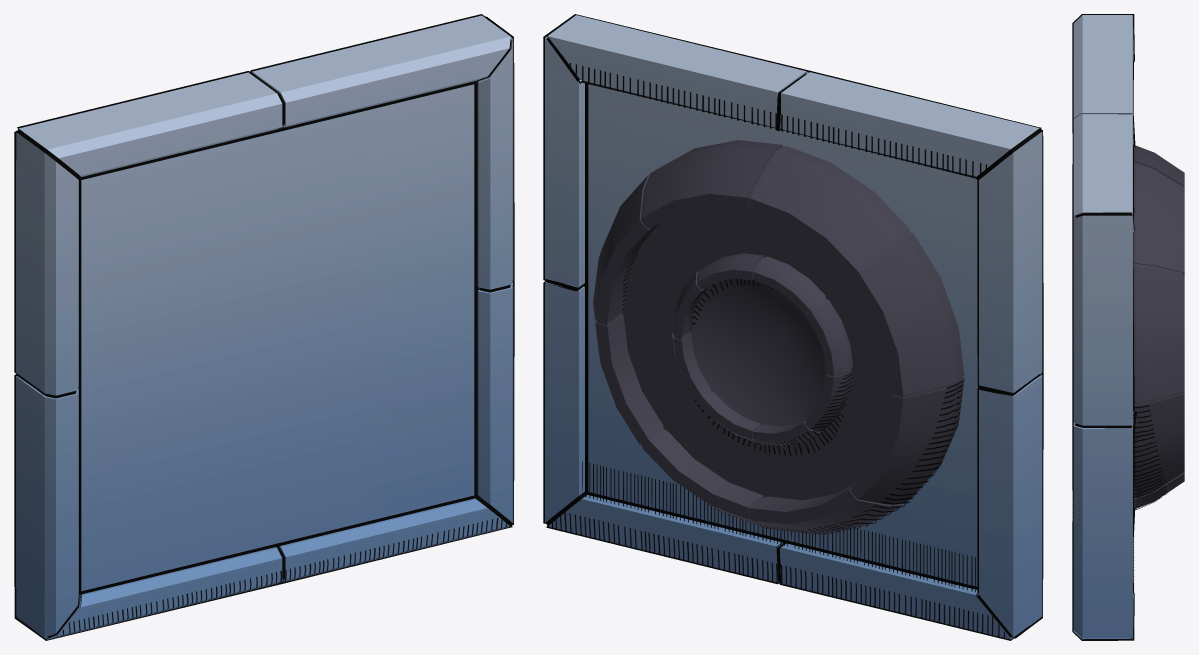
Rendered from sci-fi-picture-frame.glb.
3 renders of one model, left to right at view 1: azimuth 30°, elevation 25°; view 2: azimuth 150°, elevation 25°; view 3: azimuth 270°, elevation 25°, orthographic. The views are drawn at different scales.
Parts seen in each view (by area): view 1: SciFi_PictureFrame; view 2: SciFi_PictureFrame; view 3: SciFi_PictureFrame.
Boxes of the visible parts, left/top/right/bottom form: SciFi_PictureFrame: left=14, top=14, right=514, bottom=640; SciFi_PictureFrame: left=543, top=14, right=1043, bottom=640; SciFi_PictureFrame: left=1072, top=14, right=1184, bottom=640.
Bounding box in the file's own units: 2.36 × 2.35 × 0.5568.
Materials: 3 (2 with a texture image).
